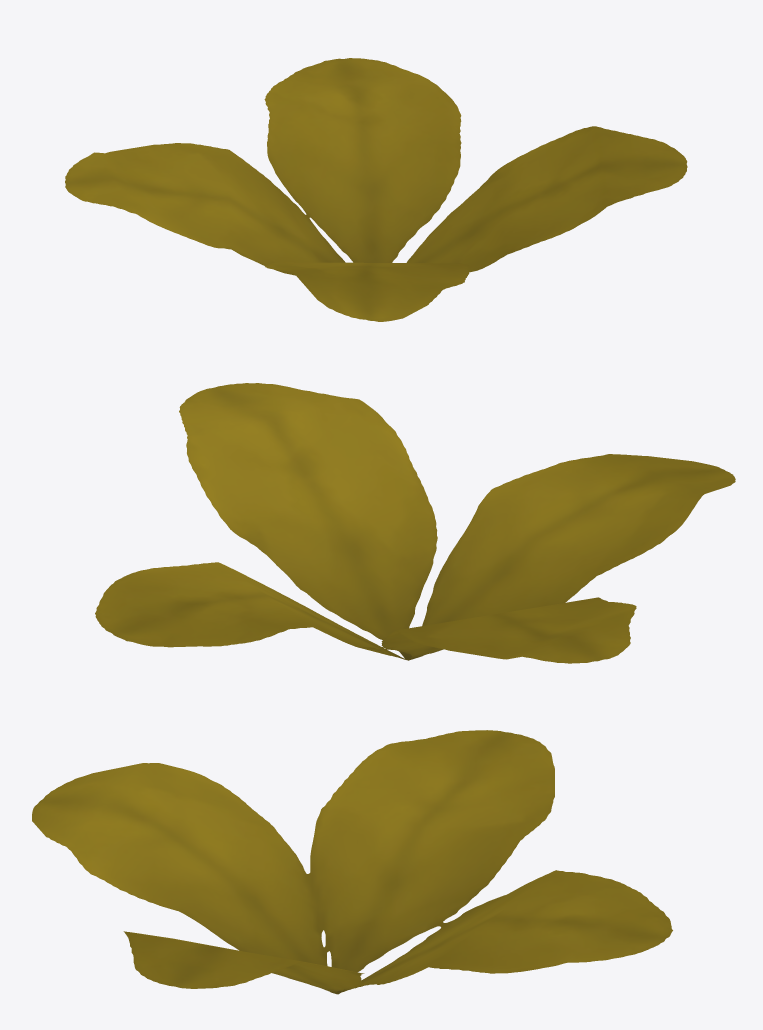
File: Flower1.fbx
3 renders of one model, top to bottom at view 1: azimuth 30°, elevation 25°; view 2: azimuth 150°, elevation 25°; view 3: azimuth 270°, elevation 25°, orthographic. The views are drawn at different scales.
Visible parts, largest first — view 1: polySurface2; view 2: polySurface2; view 3: polySurface2.
Boxes of the visible parts, bbox=[...] form: polySurface2: bbox=[65, 58, 687, 321]; polySurface2: bbox=[95, 383, 735, 663]; polySurface2: bbox=[32, 730, 672, 994].
Bounding box in the file's own units: 3.53 × 0.7686 × 3.43.
